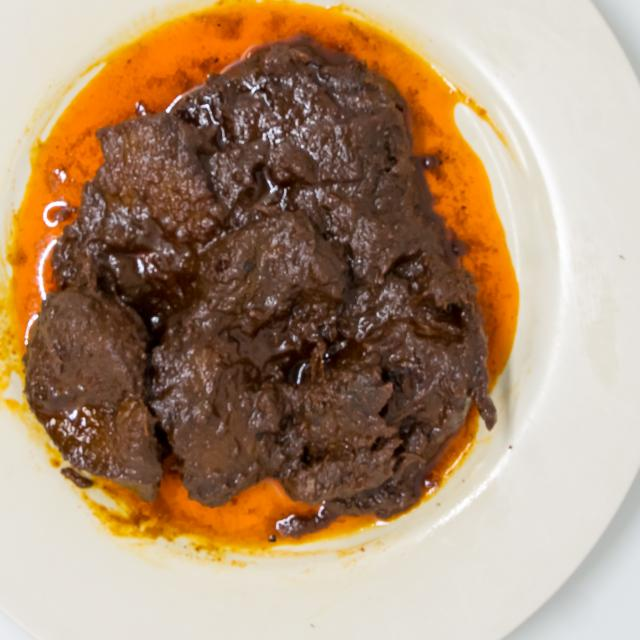Rendang: (14, 25, 508, 557)
